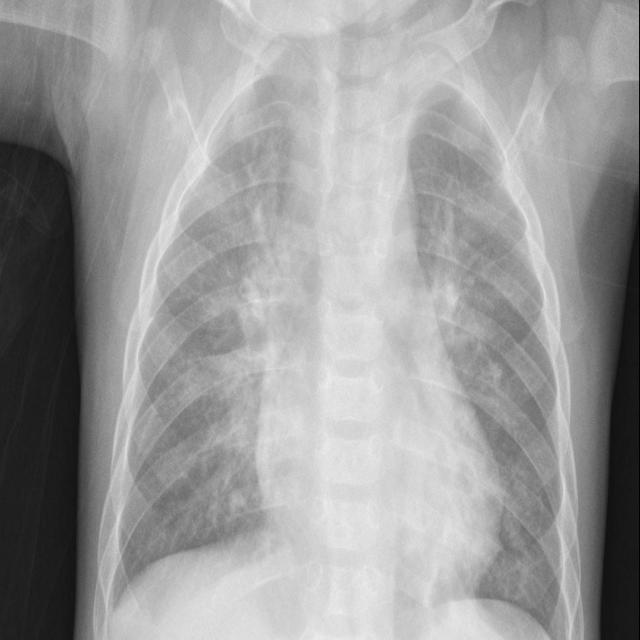low-pneumonia: (420, 191, 502, 400), (211, 170, 297, 342), (195, 345, 269, 511), (271, 37, 331, 216)
